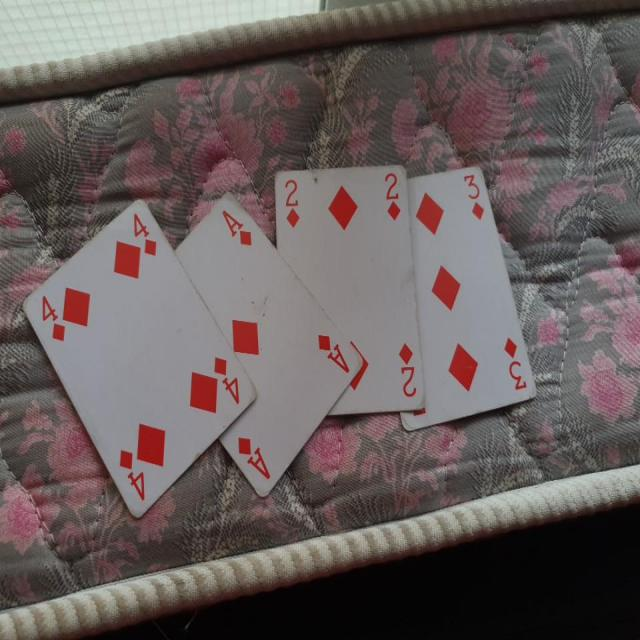2 Diamonds: (271, 165, 428, 415)
3 Diamonds: (402, 158, 538, 430)
4 Diamonds: (24, 193, 257, 520)
A Diamonds: (181, 189, 364, 496)
